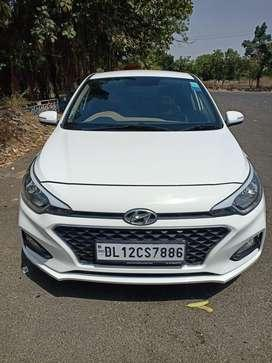DL12CS7886: (94, 241, 184, 259)
